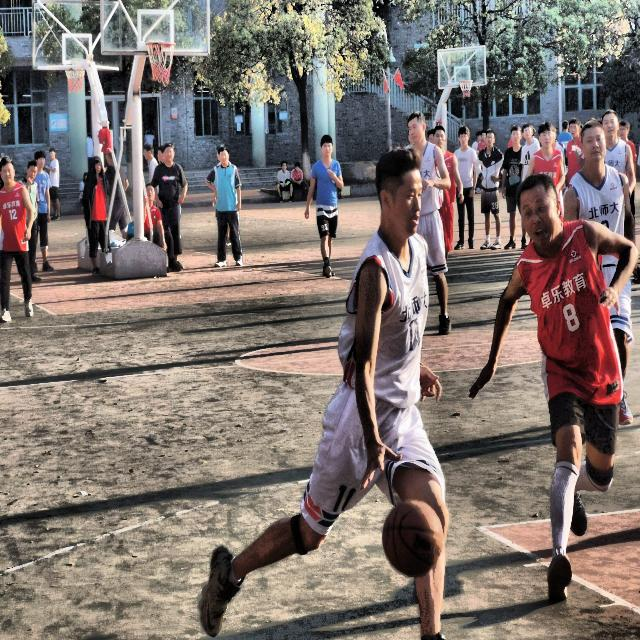board: (382, 499, 444, 576)
